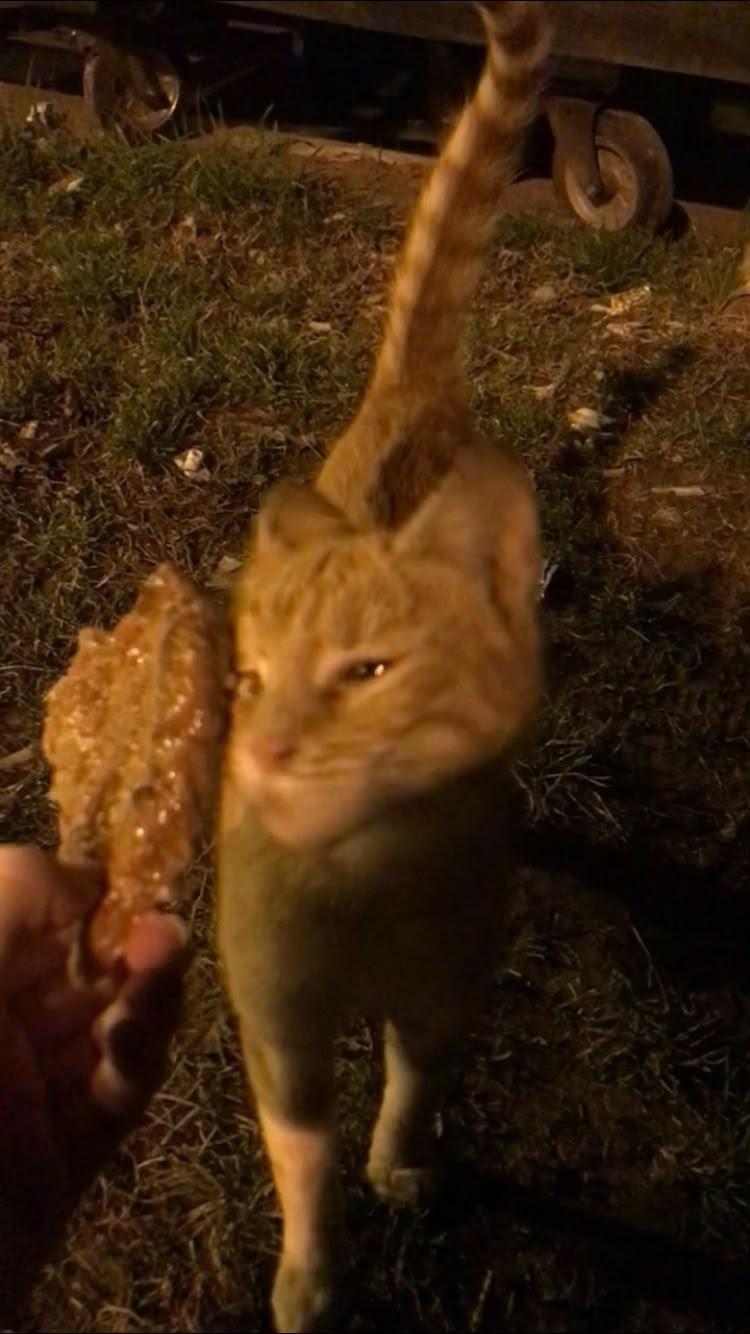macka: (221, 0, 555, 1333)
